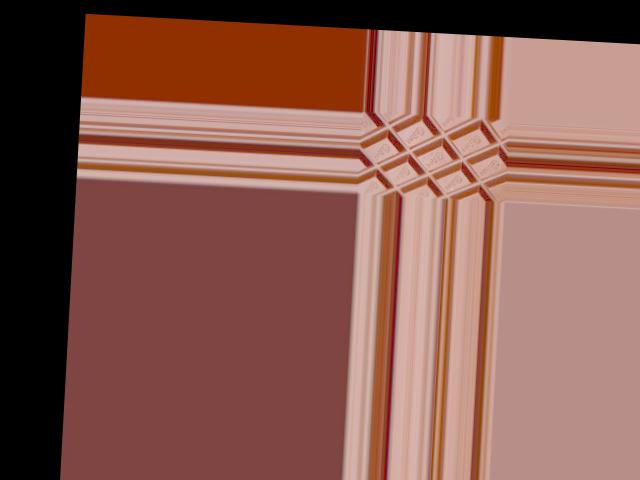chocolate: (361, 110, 509, 199)
